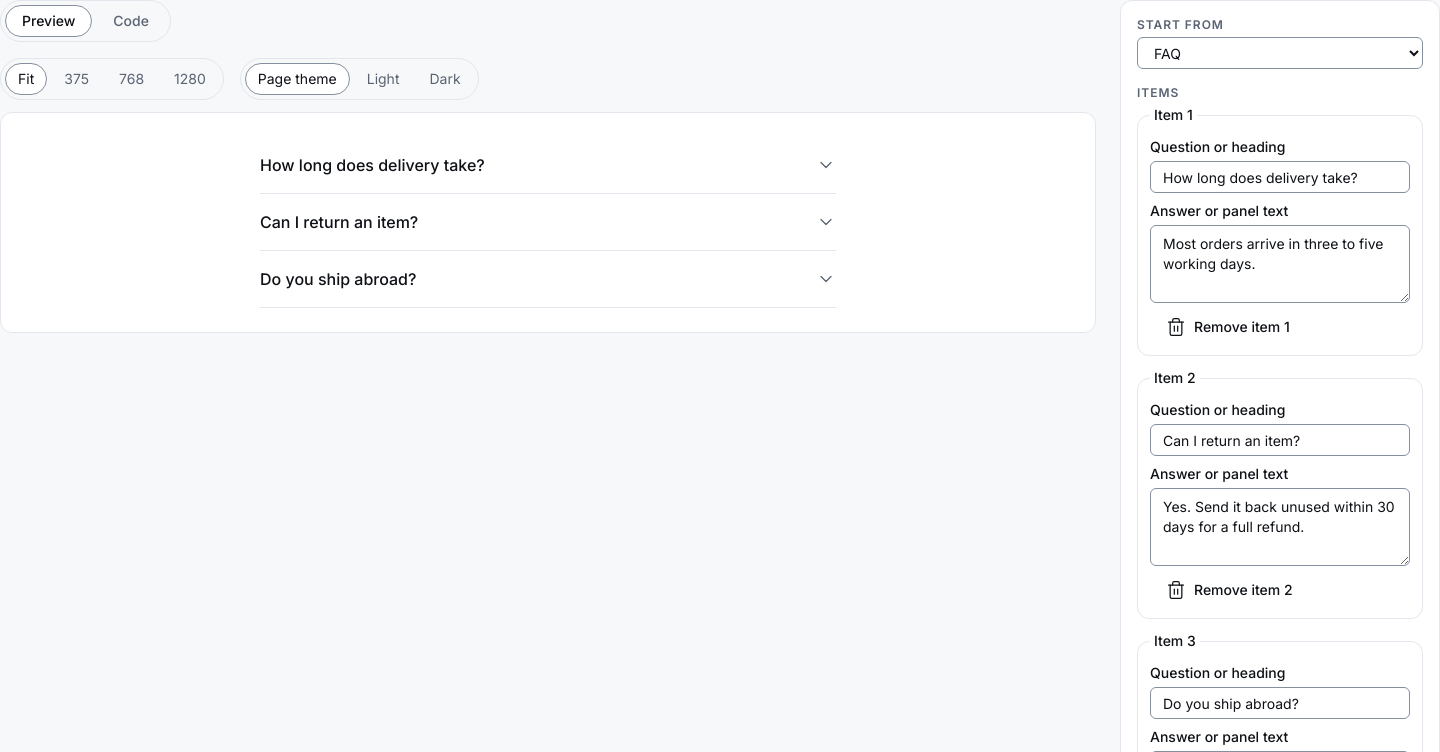
Test case: Playground › the components inside the preview stay interactive
Step 1. Click the button "Can I return an item?" → click(339, 222), box [260,194,836,250]
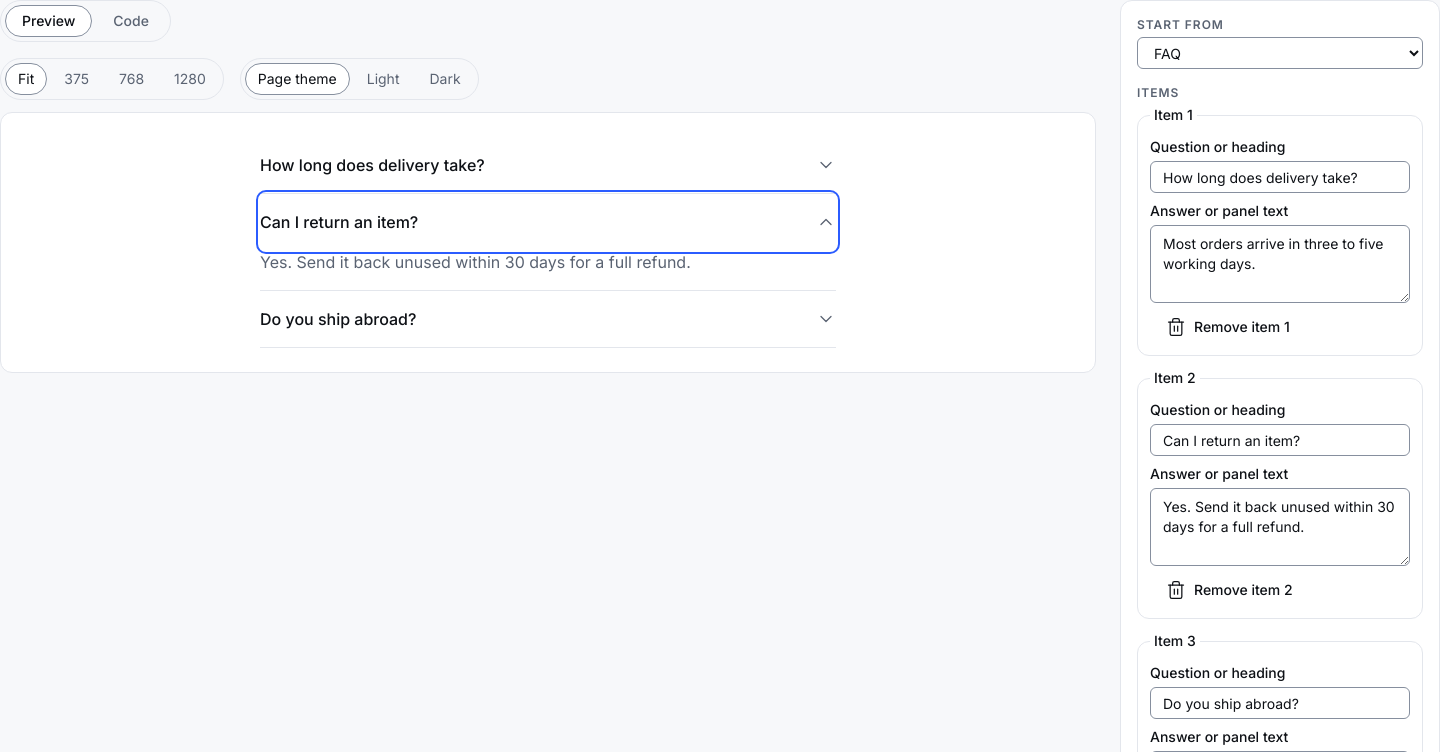
Expected: the button "Can I return an item?" is expanded, [260,194,836,250]
